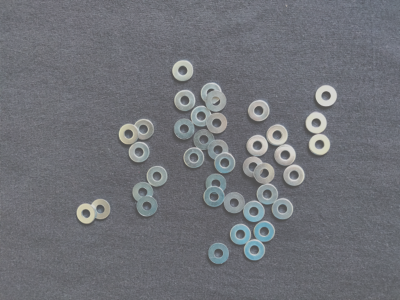circle: (266, 123, 291, 147), (307, 134, 332, 158), (304, 111, 329, 135), (314, 84, 338, 109), (117, 122, 140, 148), (127, 141, 151, 165), (171, 60, 195, 83), (173, 89, 197, 112), (203, 186, 226, 210), (223, 192, 247, 215), (243, 239, 267, 262), (282, 164, 306, 187), (271, 198, 296, 220), (131, 181, 154, 204), (207, 139, 230, 162), (247, 99, 270, 122), (135, 196, 159, 218), (206, 243, 230, 265), (194, 128, 216, 152), (242, 201, 266, 223), (256, 184, 281, 205), (145, 166, 168, 188), (133, 119, 155, 142), (173, 119, 196, 141), (190, 105, 212, 128), (243, 156, 265, 179), (247, 135, 269, 158), (89, 199, 111, 221), (214, 152, 236, 174), (254, 163, 276, 185), (184, 147, 205, 170), (206, 90, 227, 113), (253, 222, 276, 243), (229, 225, 252, 246), (274, 145, 297, 166), (201, 82, 222, 104), (206, 174, 228, 195), (77, 203, 97, 225), (207, 113, 227, 134)
